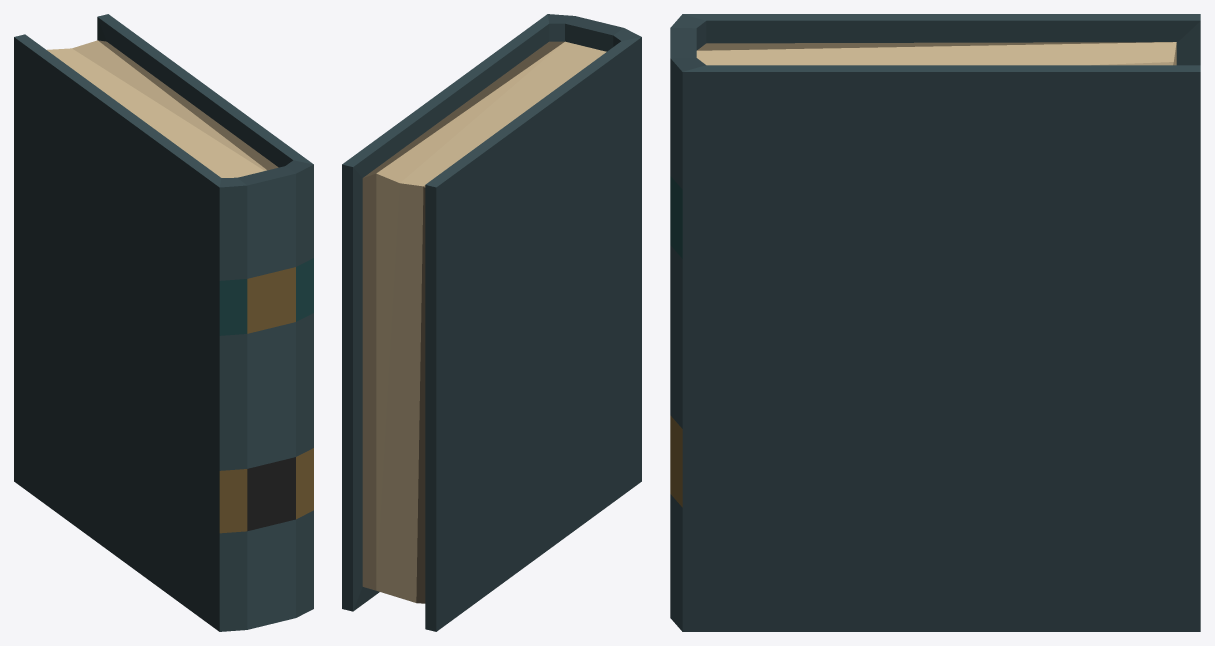
The model's file is Prop_BookH.fbx.
The picture shows the model from 3 angles, left to right: view 1: azimuth 30°, elevation 25°; view 2: azimuth 150°, elevation 25°; view 3: azimuth 270°, elevation 25°; orthographic projection. The views are drawn at different scales.
Visible parts, largest first — view 1: Prop_BookH; view 2: Prop_BookH; view 3: Prop_BookH.
Part boxes in pixels (x1,y1,x2,y2): Prop_BookH: (14, 14, 313, 631); Prop_BookH: (342, 14, 641, 631); Prop_BookH: (670, 14, 1200, 631).
Bounding box in the file's own units: 5.76 × 25.92 × 22.25.
